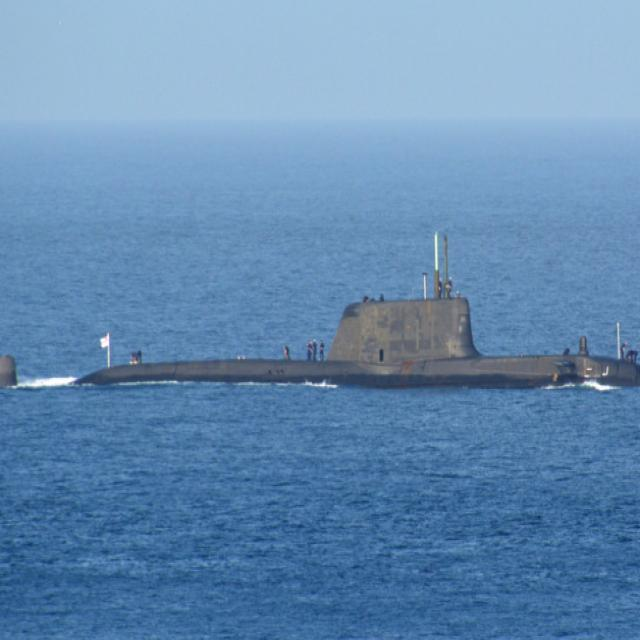submarine: (1, 229, 640, 382)
